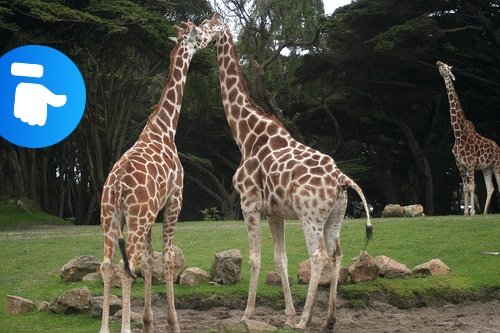like: (0, 45, 86, 148)
